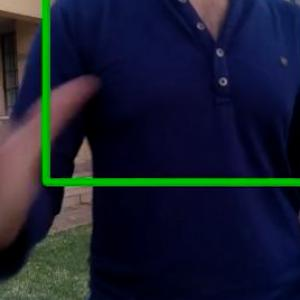land_hand: (0, 56, 104, 259)
